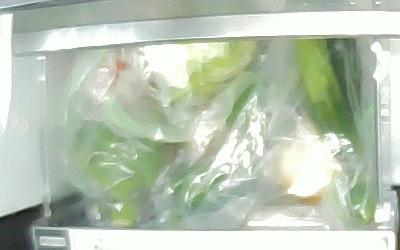broccoli_vinyl: (72, 120, 167, 228)
cucumber_vinyl: (295, 39, 374, 226), (327, 39, 361, 125)
lettuce_vinyl: (169, 39, 257, 105)
